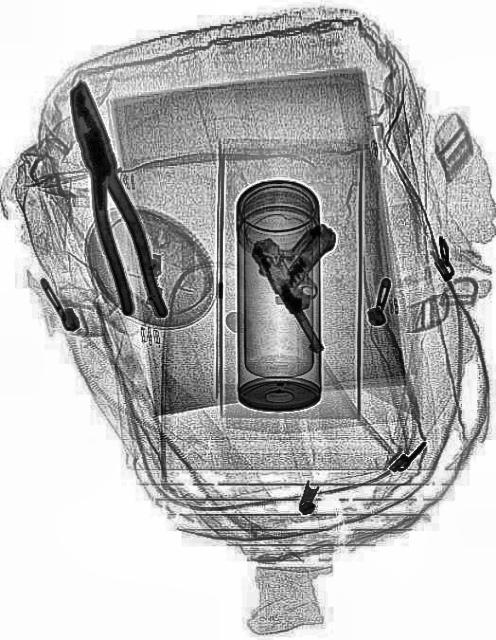Gun: (245, 188, 373, 364)
Pliers: (52, 74, 170, 330)
